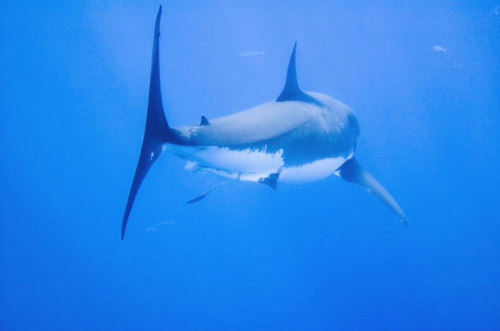shark: (83, 2, 426, 263)
